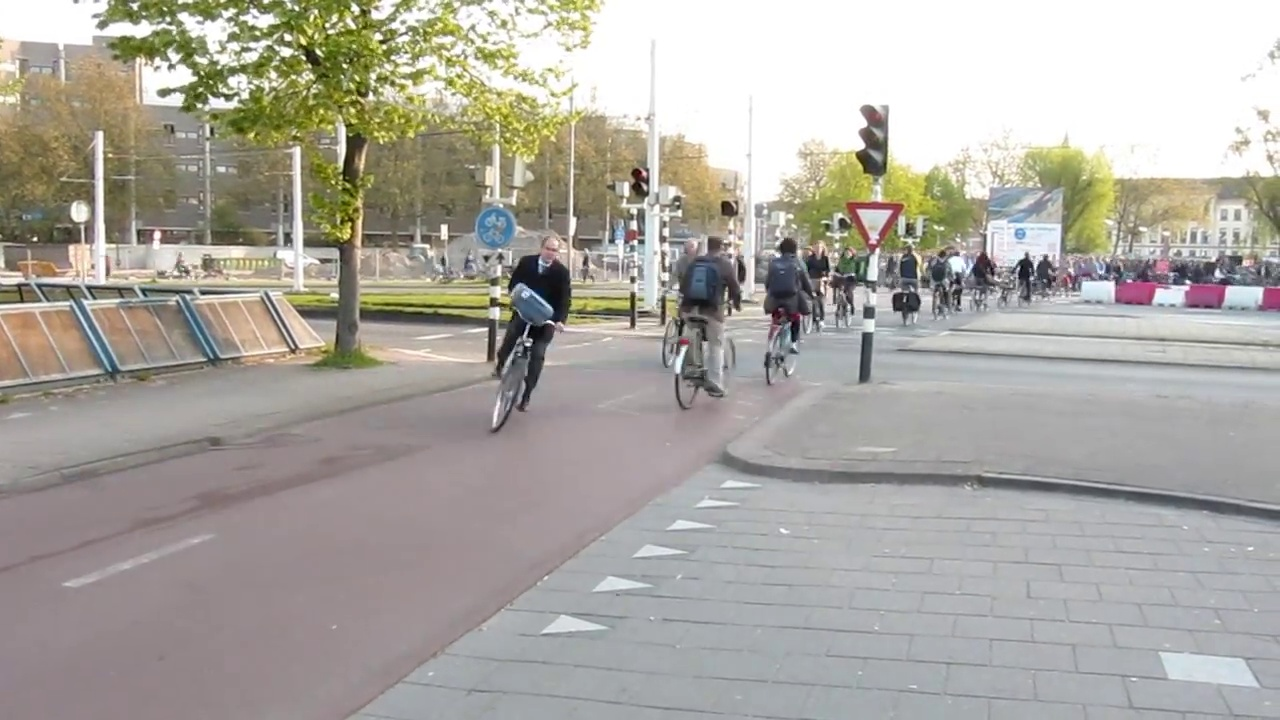cyclist_back: (679, 230, 739, 408), (763, 231, 803, 389), (895, 241, 928, 327), (931, 247, 953, 324), (972, 253, 993, 316)
cyclist_front: (494, 223, 568, 440), (804, 237, 828, 335), (834, 239, 858, 328)
